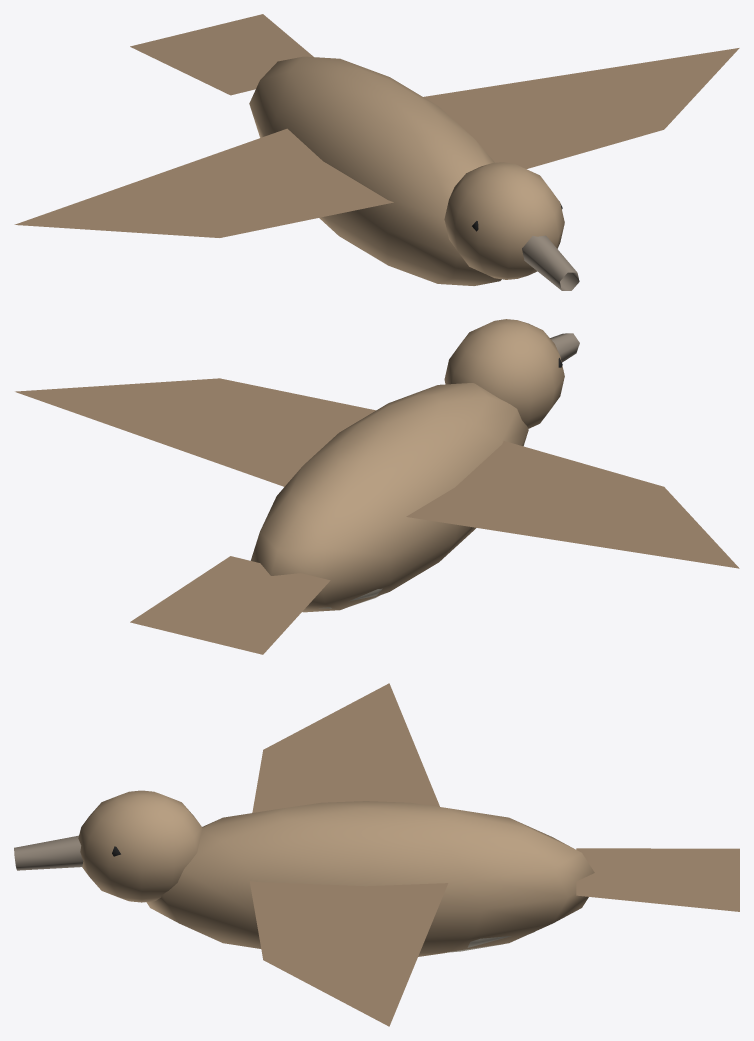
File: Bird_Sparrow.glb
3 views of the same model, one above another, from view 1: azimuth 30°, elevation 25°; view 2: azimuth 150°, elevation 25°; view 3: azimuth 270°, elevation 25° (orthographic). The views are drawn at different scales.
Visible parts, largest first — view 1: Bird_Sparrow, WingL, WingR; view 2: Bird_Sparrow, WingL, WingR; view 3: Bird_Sparrow, WingR, WingL.
Boxes of the visible parts, x1,y1,x2,y2 form: Bird_Sparrow: [130, 14, 579, 290]; WingL: [14, 128, 393, 237]; WingR: [423, 48, 739, 168]; Bird_Sparrow: [130, 319, 579, 654]; WingL: [406, 441, 739, 568]; WingR: [15, 378, 375, 486]; Bird_Sparrow: [14, 790, 739, 956]; WingR: [249, 881, 448, 1026]; WingL: [252, 683, 439, 812].
Size of the model in its own units: 0.2784 by 0.0592 by 0.2485.
